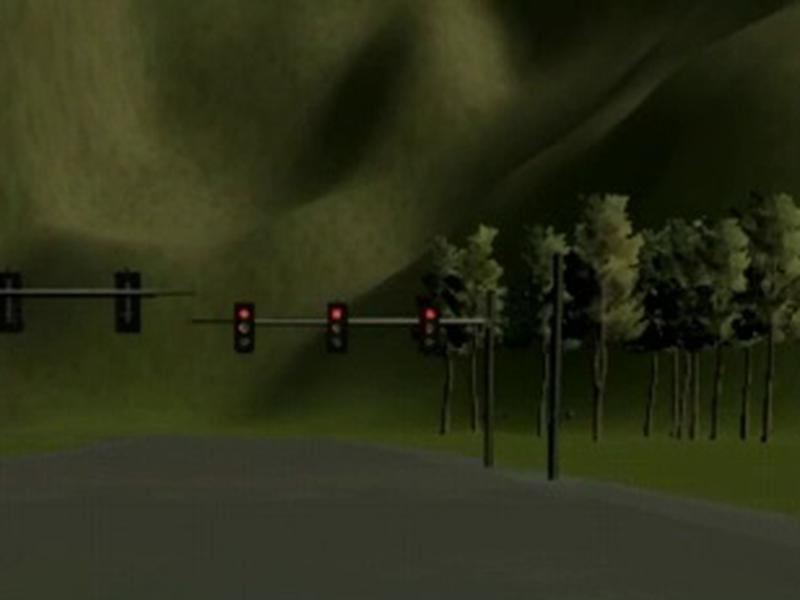Red: (234, 301, 256, 354), (421, 300, 441, 354), (328, 303, 347, 352)
